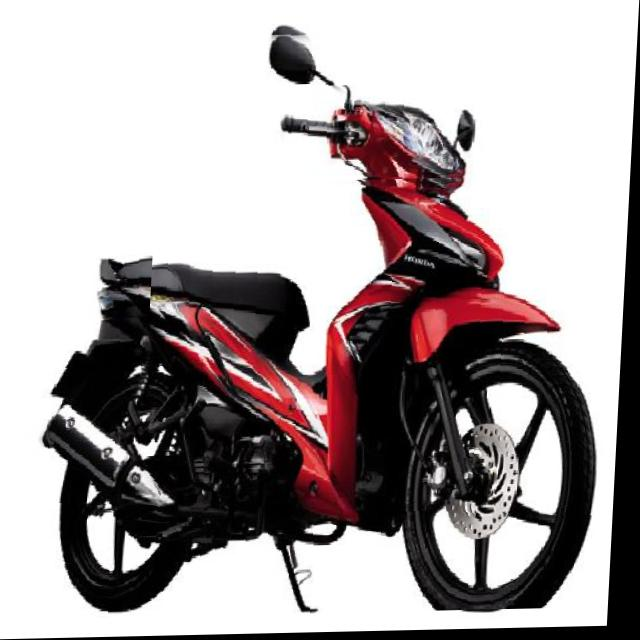All: (31, 20, 621, 620)
Head: (276, 81, 485, 183)
Tail: (86, 252, 156, 323)
